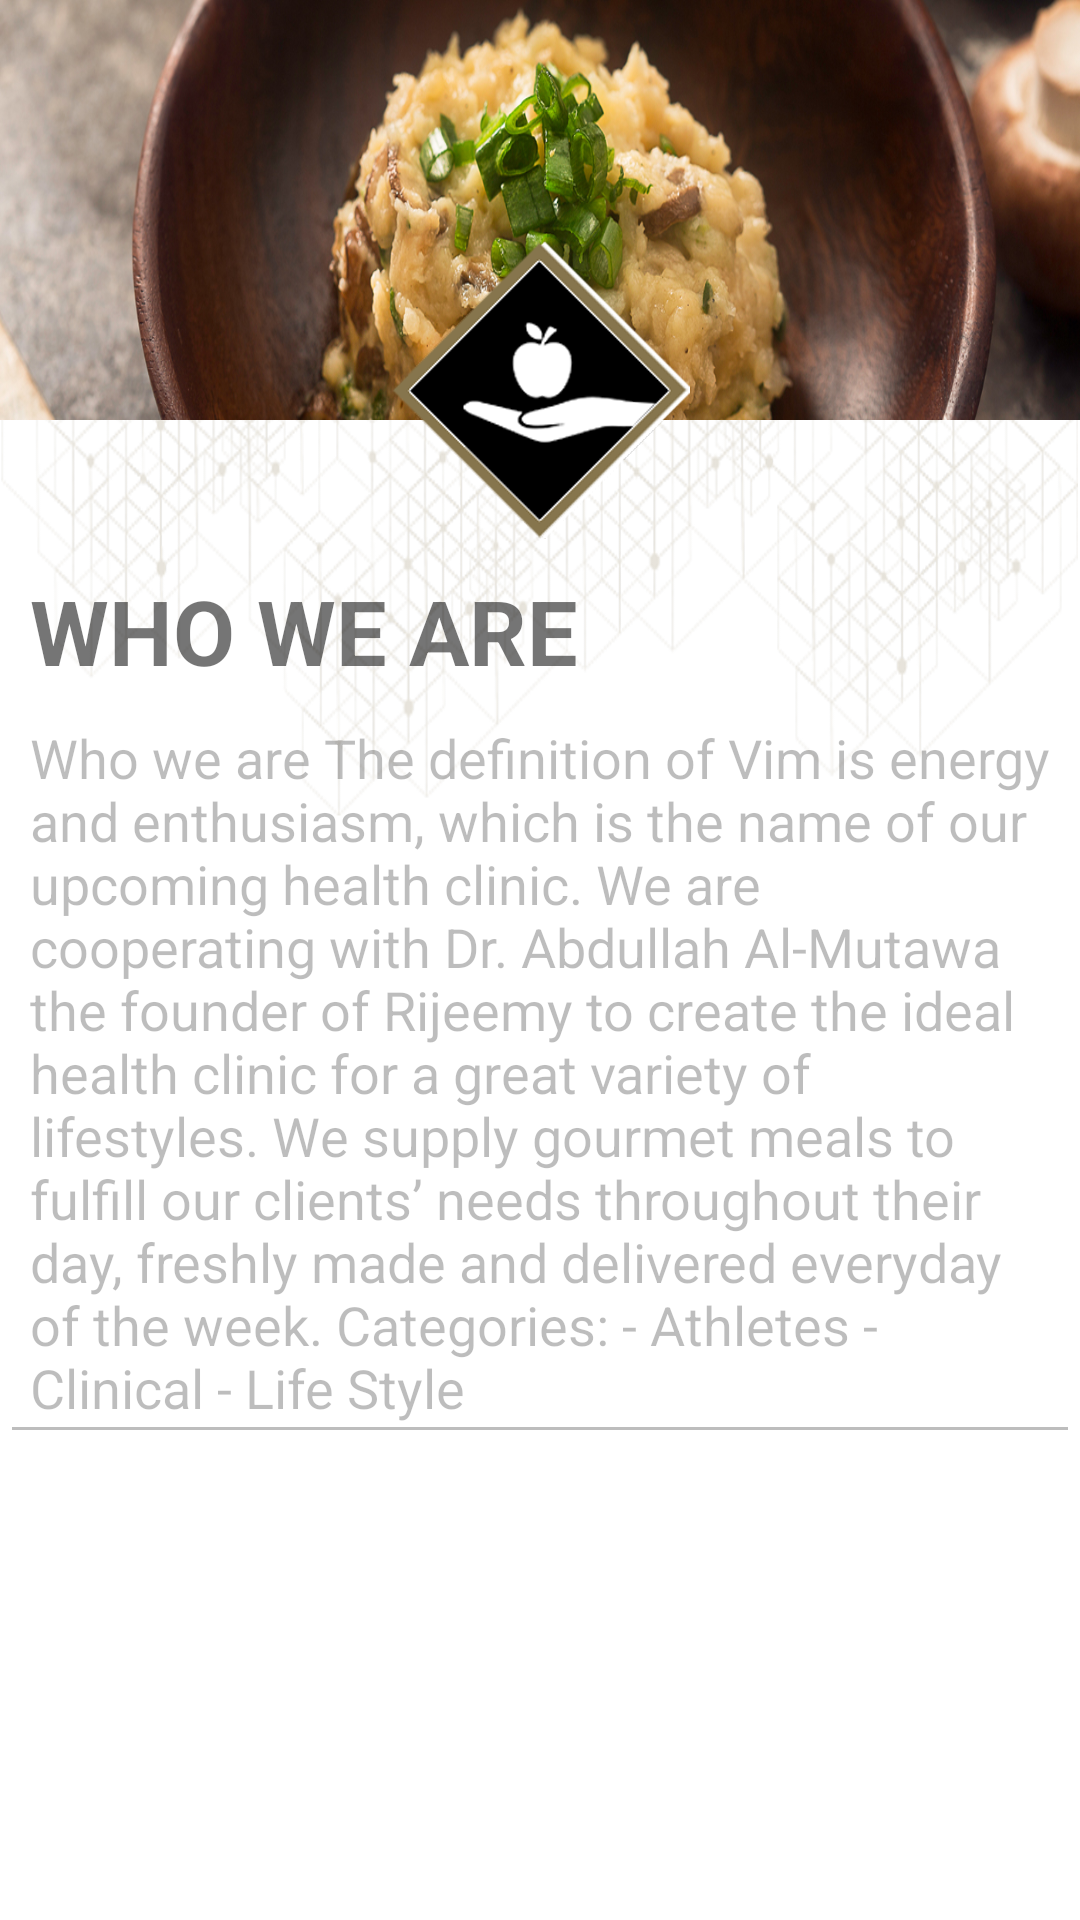

Icons on this 1080*1920 Android screen, each with the point to tap as point (x, y):
apple: point (540, 390)
